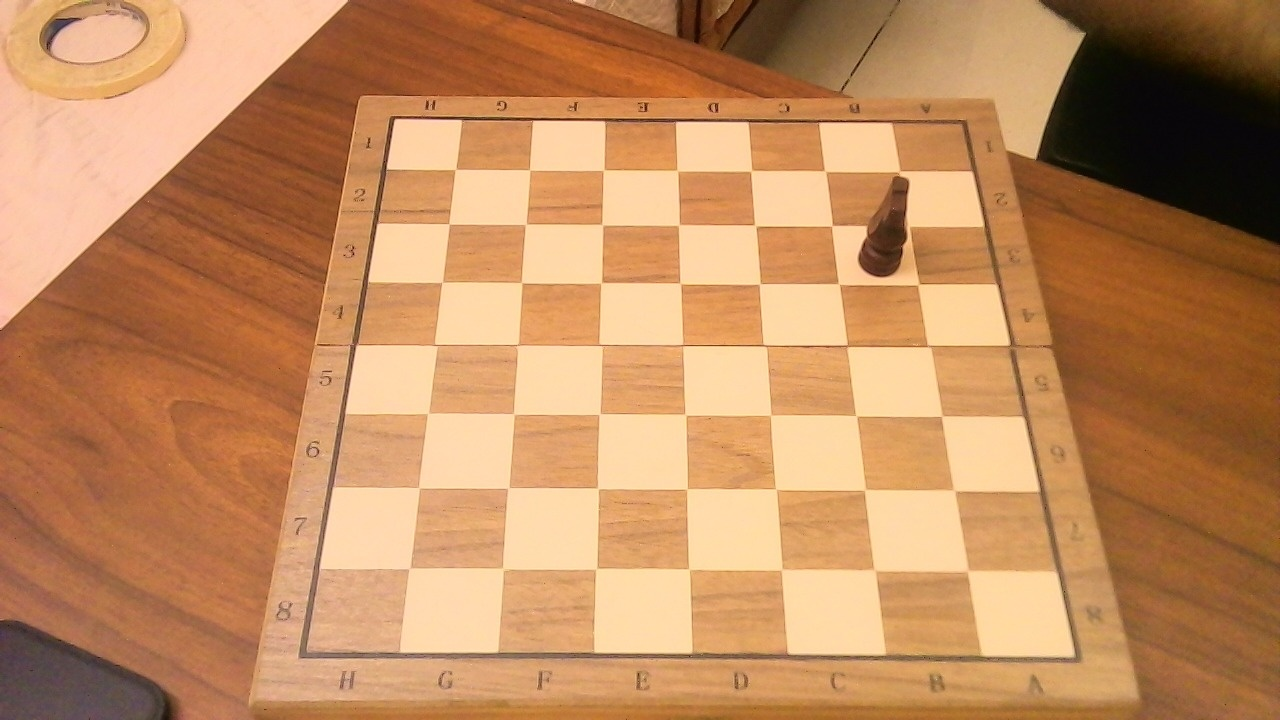n: (852, 159, 921, 280)
